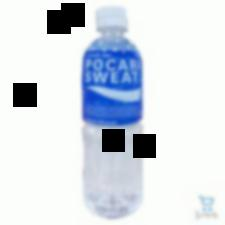pocarisweat: (73, 6, 152, 222)
